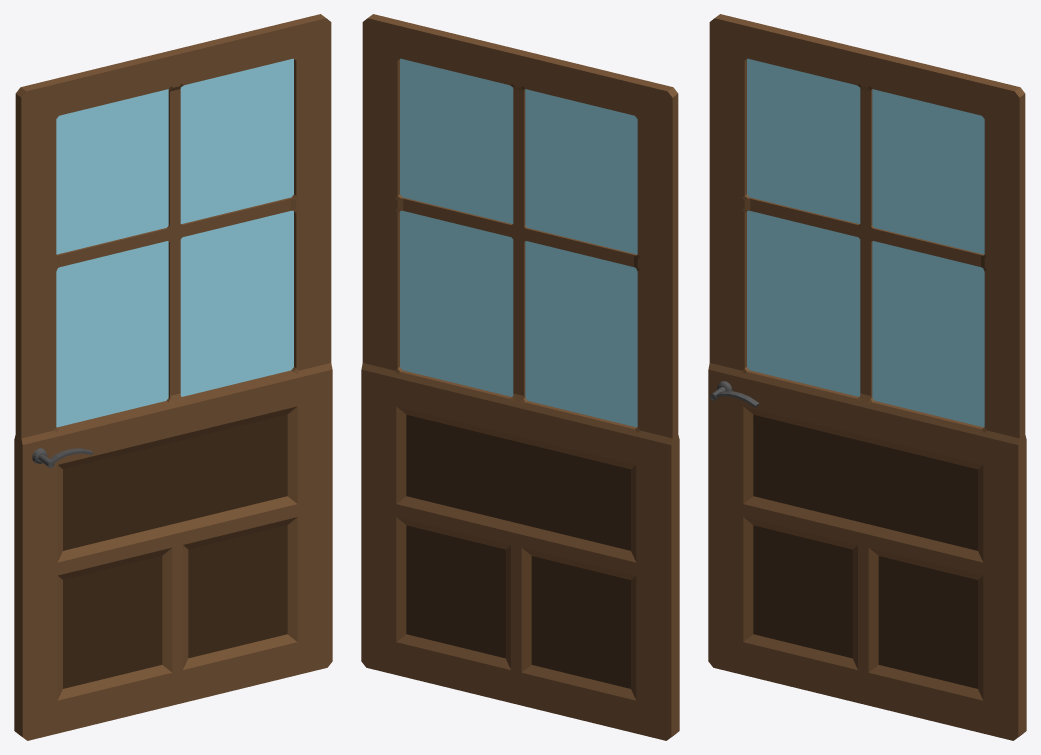
Rendered from Door_With_Window.fbx.
3 views of the same model, side by side, from view 1: azimuth 30°, elevation 25°; view 2: azimuth 150°, elevation 25°; view 3: azimuth 330°, elevation 25° (orthographic).
Visible parts, largest first — view 1: Door, Glass; view 2: Door, Glass; view 3: Door, Glass.
Part boxes in pixels (box(x1,y1,x2,y2)): Door: box(14, 14, 332, 740); Glass: box(56, 58, 293, 427); Door: box(361, 14, 679, 740); Glass: box(400, 58, 637, 427); Door: box(708, 14, 1026, 740); Glass: box(747, 58, 984, 427).
Size of the model in its own units: 100 by 200 by 11.4.
